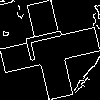L: (25, 25, 76, 63)
